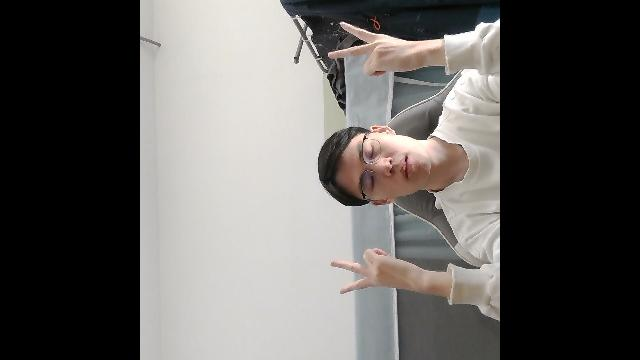yes: (325, 24, 434, 78), (326, 246, 426, 298)
